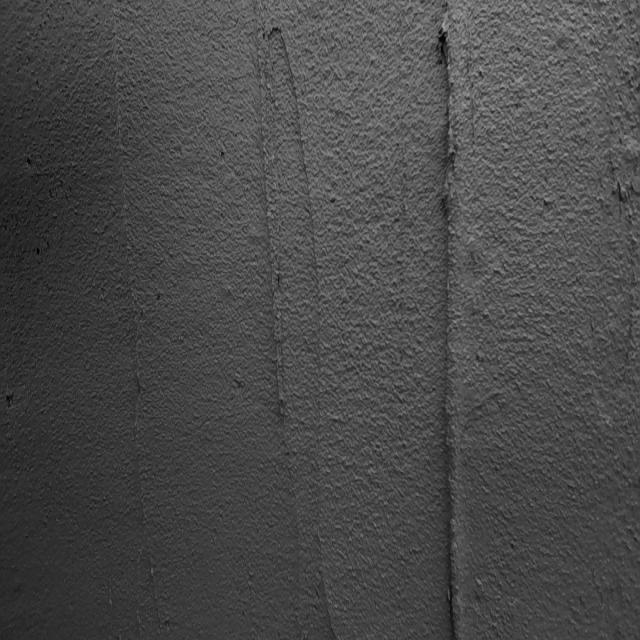trowels marks: (101, 2, 162, 640), (435, 7, 479, 640), (253, 4, 293, 472)
